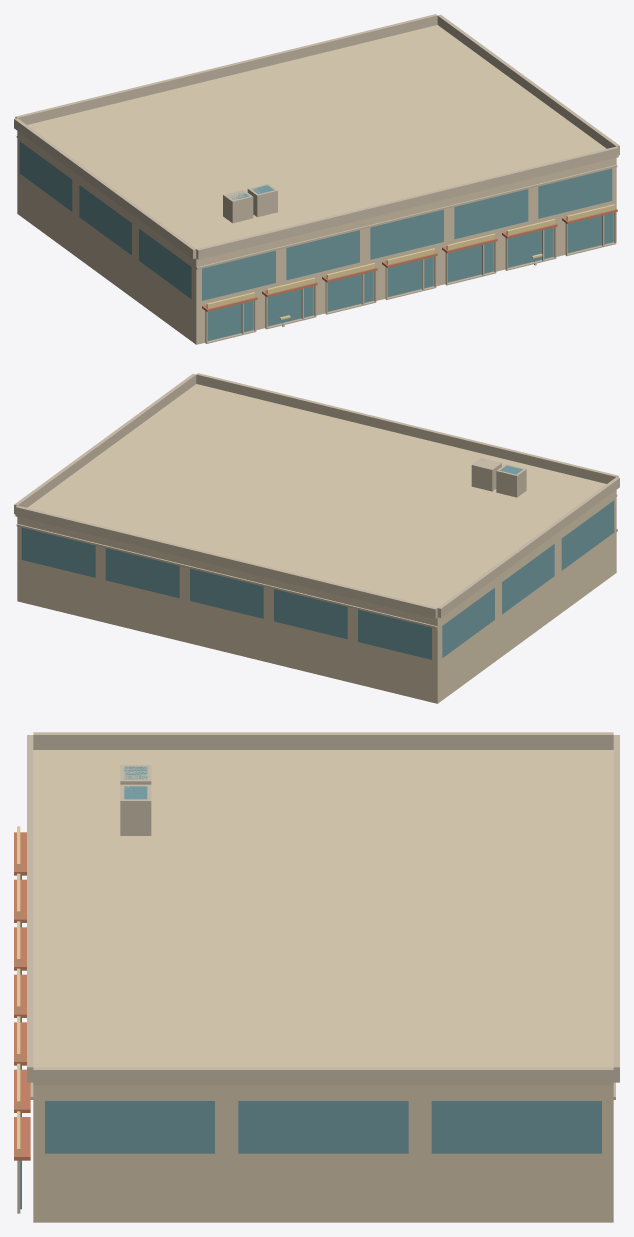
Rendered from commercial_4x3_a.glb.
3 renders of one model, top to bottom at view 1: azimuth 30°, elevation 25°; view 2: azimuth 150°, elevation 25°; view 3: azimuth 270°, elevation 25°, orthographic. The views are drawn at different scales.
Visible parts, largest first — view 1: commercial_4x3_a_0; view 2: commercial_4x3_a_0; view 3: commercial_4x3_a_0.
Boxes of the visible parts, left/top/right/bottom form: commercial_4x3_a_0: left=14, top=14, right=619, bottom=344; commercial_4x3_a_0: left=14, top=373, right=619, bottom=703; commercial_4x3_a_0: left=14, top=732, right=619, bottom=1222.
Size of the model in its own units: 31 by 7.5 by 23.5.
